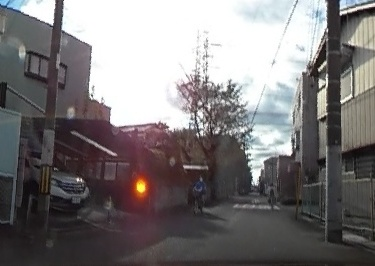person: (193, 174, 206, 211), (266, 182, 276, 208)
